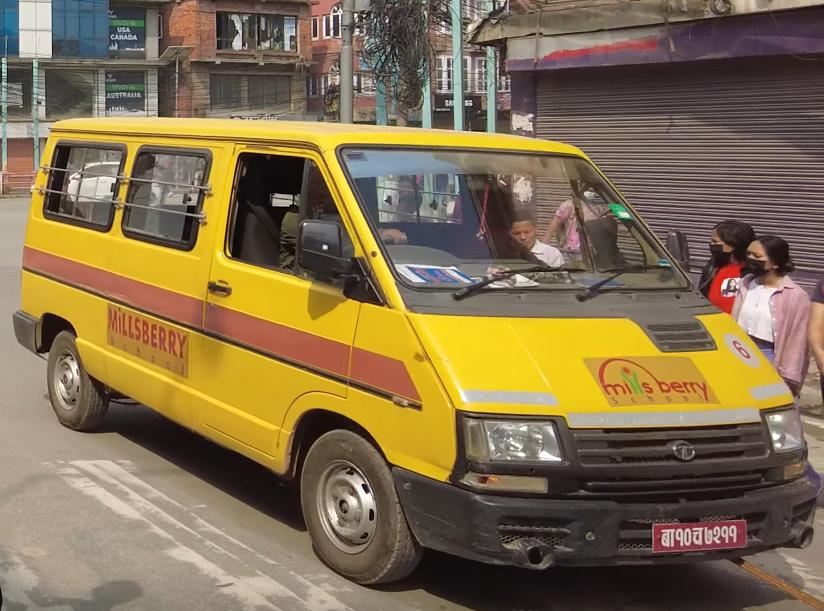school_bus: (8, 109, 823, 588)
